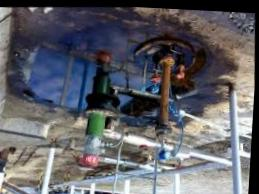leak: (21, 16, 235, 127)
